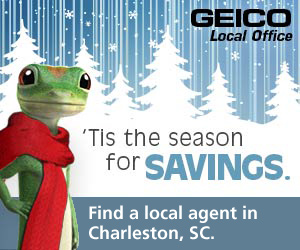geico: (189, 7, 295, 28)
